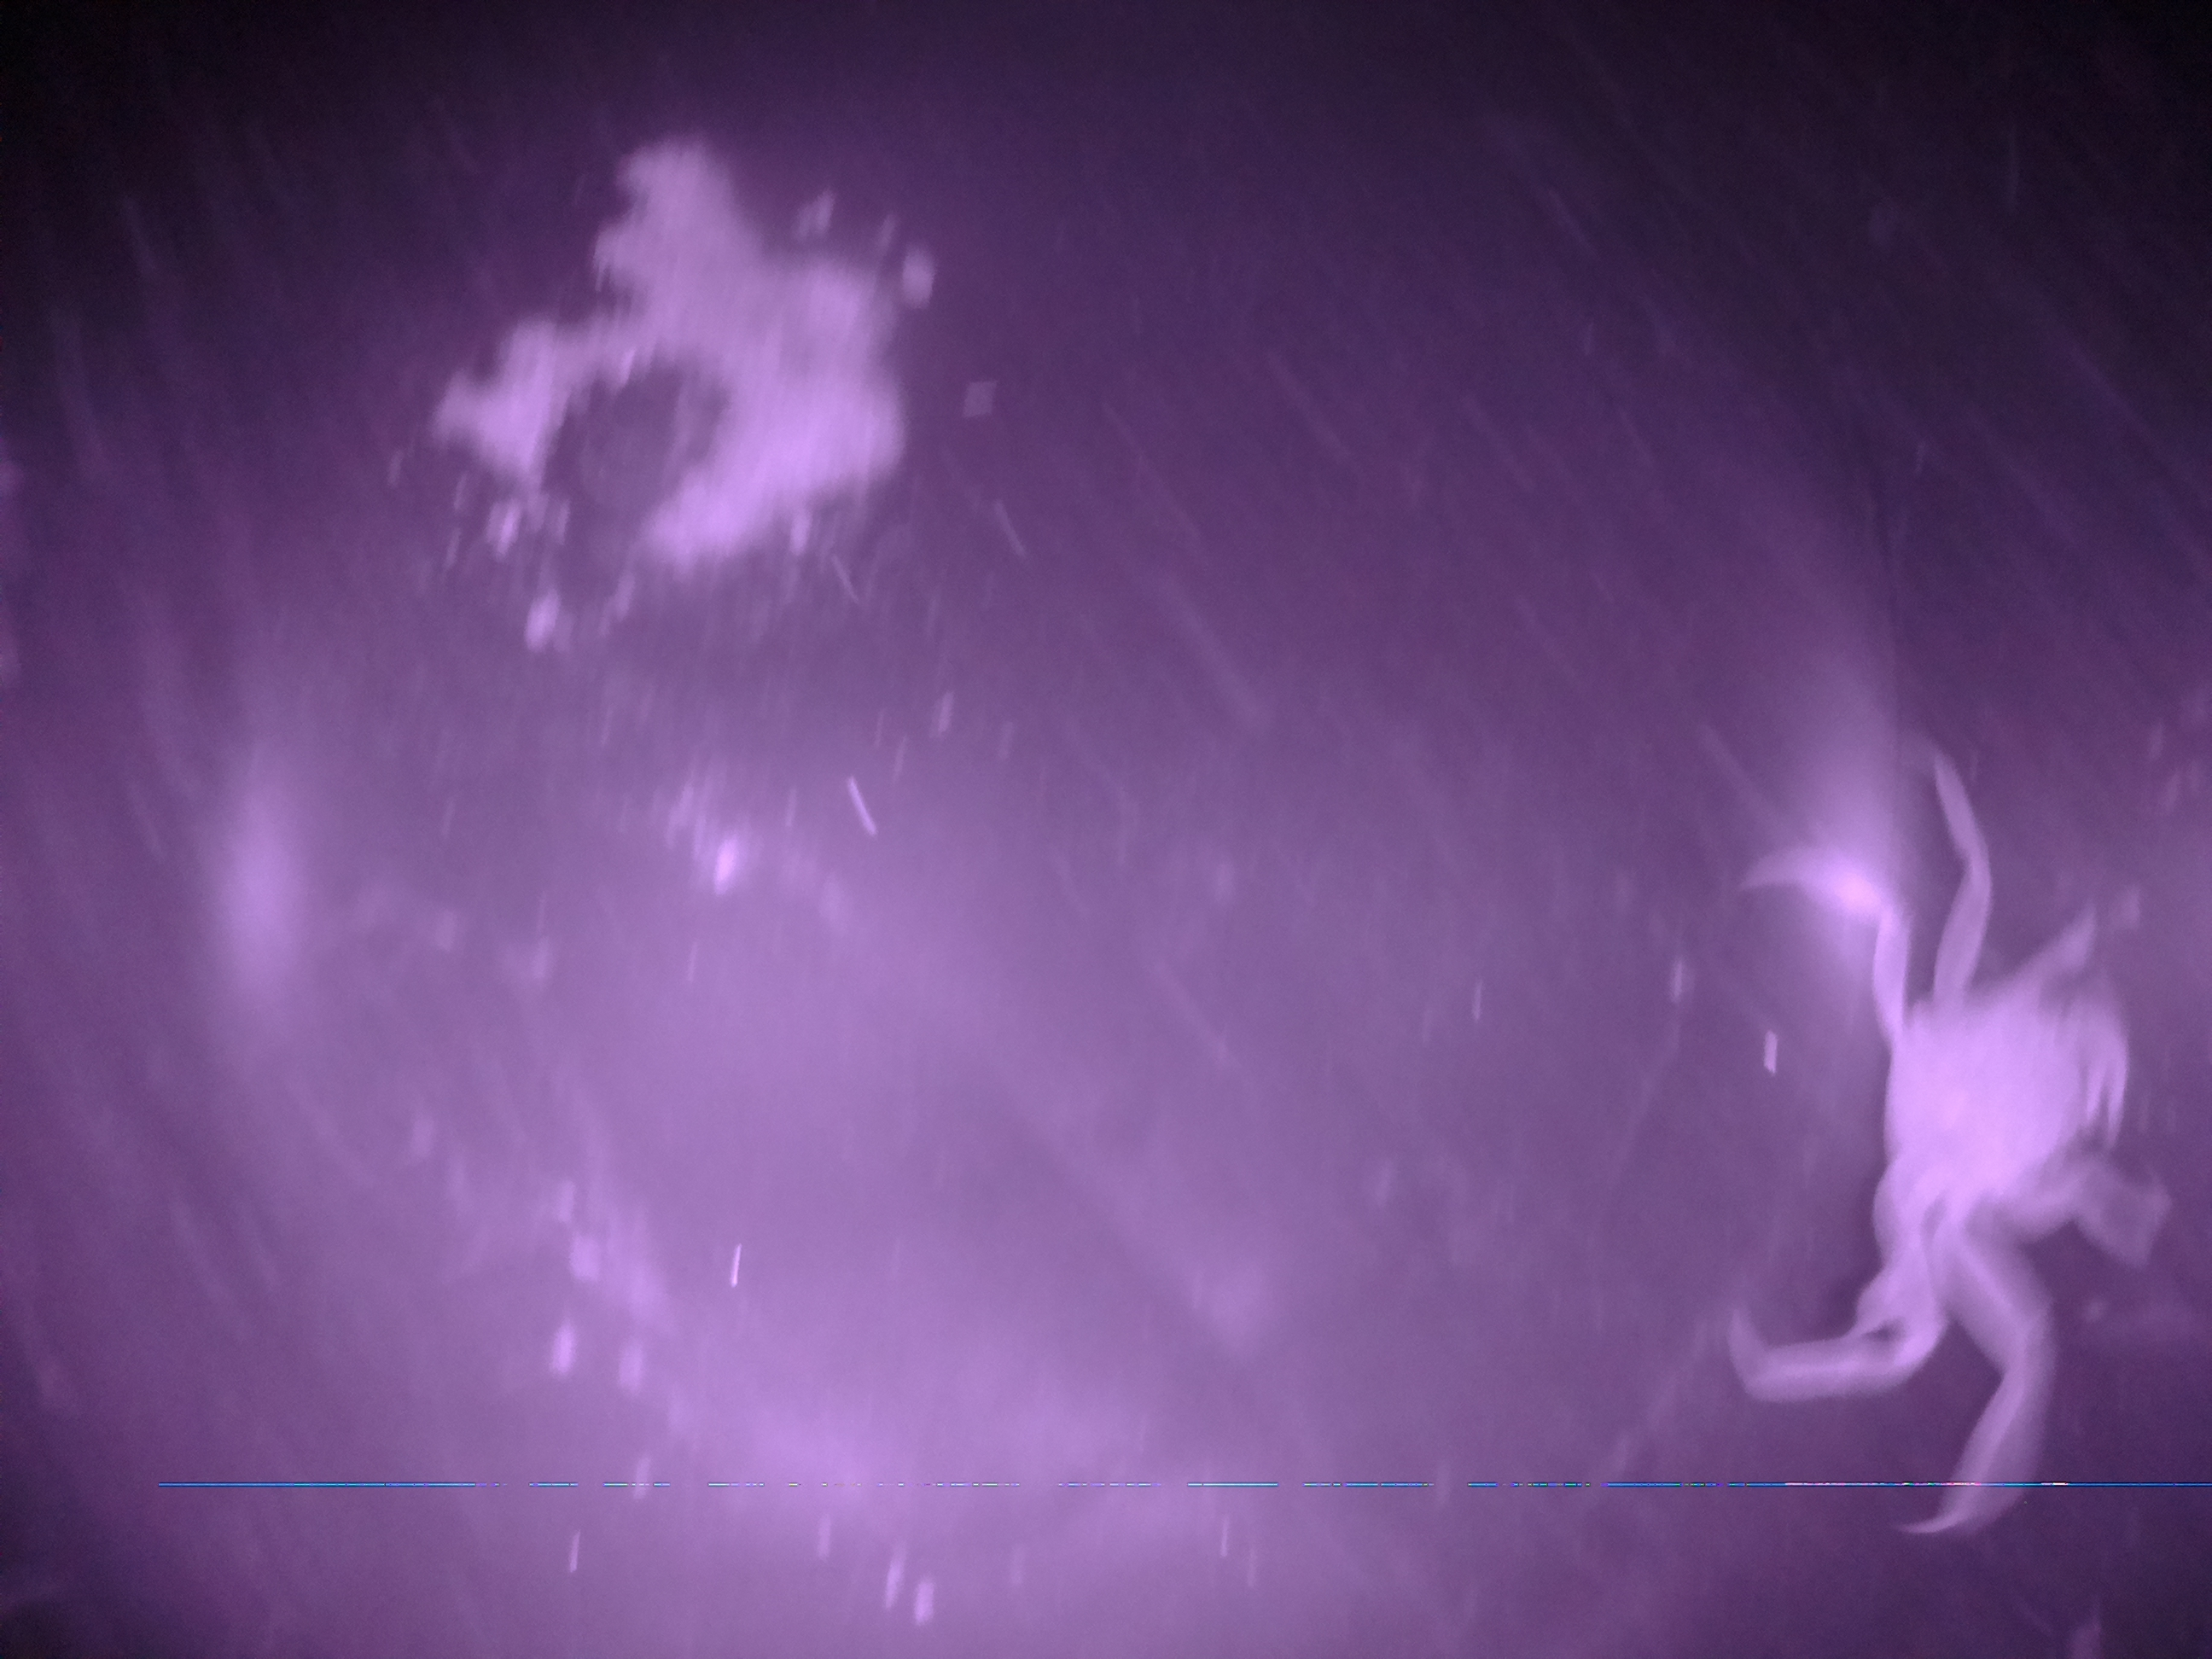Crab: (1763, 931, 2175, 1347)
